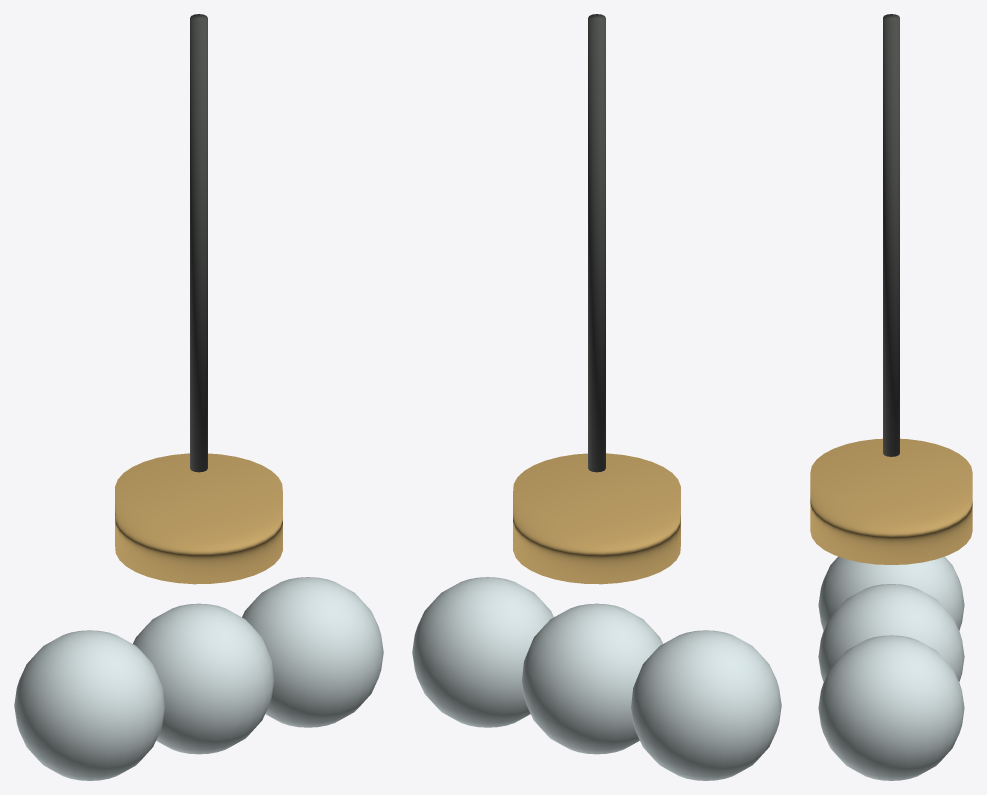
File: candeeiro-suspenso-lume.glb
The picture shows the model from 3 angles, left to right: view 1: azimuth 30°, elevation 25°; view 2: azimuth 150°, elevation 25°; view 3: azimuth 270°, elevation 25°; orthographic projection. The views are drawn at different scales.
Visible parts, largest first — view 1: Tampa, Globo opalino, Globo opalino.002, Globo opalino.001, Cabo; view 2: Tampa, Globo opalino, Globo opalino.002, Globo opalino.001, Cabo; view 3: Tampa, Globo opalino.002, Cabo, Globo opalino.001, Globo opalino.
Part boxes in pixels (<box>): Tampa: <box>115,453,282,584</box>; Globo opalino: <box>14,630,164,780</box>; Globo opalino.002: <box>242,577,383,727</box>; Globo opalino.001: <box>133,603,273,754</box>; Cabo: <box>190,14,207,472</box>; Tampa: <box>513,453,680,584</box>; Globo opalino: <box>631,630,781,780</box>; Globo opalino.002: <box>412,577,553,727</box>; Globo opalino.001: <box>522,603,662,754</box>; Cabo: <box>588,14,605,472</box>; Tampa: <box>810,438,972,564</box>; Globo opalino.002: <box>818,635,964,780</box>; Cabo: <box>883,14,899,456</box>; Globo opalino.001: <box>818,584,964,681</box>; Globo opalino: <box>818,556,964,630</box>.
Bounding box in the file's own units: 0.3648 × 0.7284 × 0.152.
